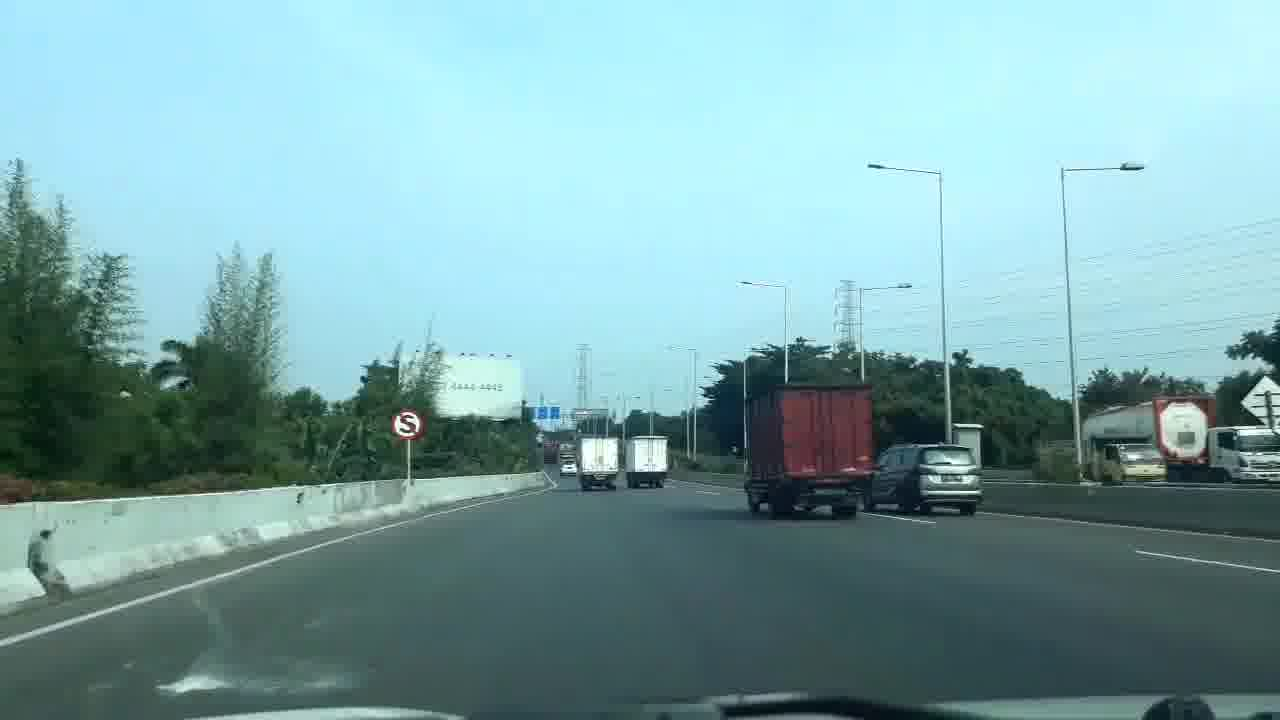plate_positive: (942, 475, 963, 482)
